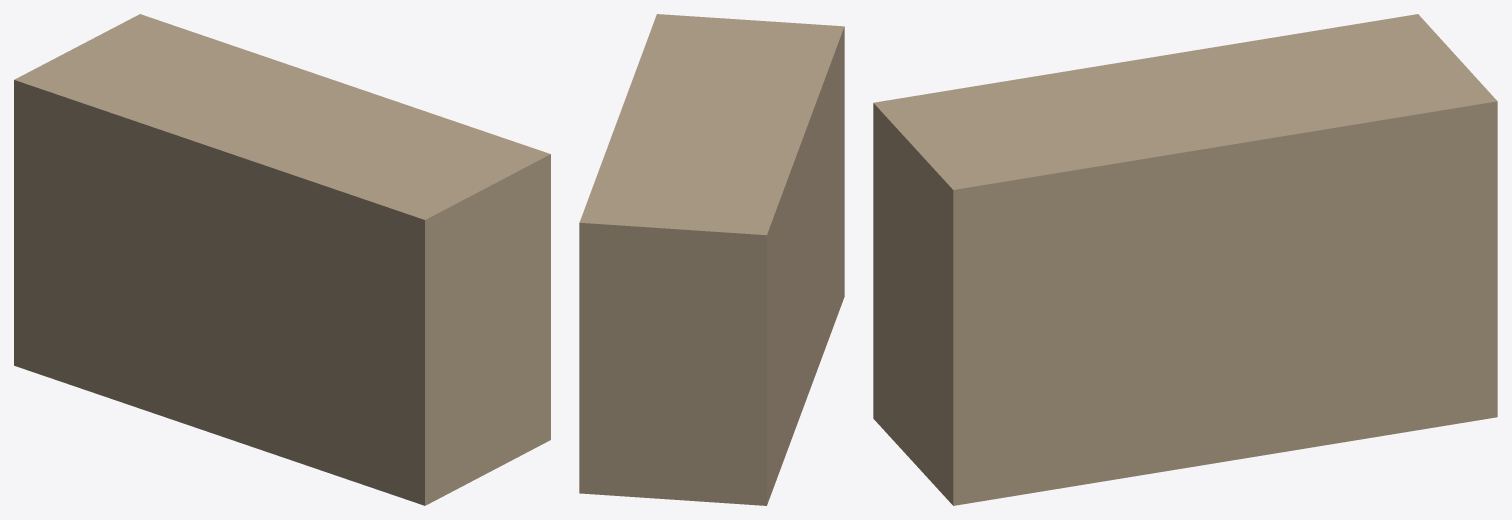
Rendered from bld_106415375.dae.
3 views of the same model, side by side, from view 1: azimuth 30°, elevation 25°; view 2: azimuth 150°, elevation 25°; view 3: azimuth 270°, elevation 25° (orthographic). The views are drawn at different scales.
Visible parts, largest first — view 1: bld_106415375; view 2: bld_106415375; view 3: bld_106415375.
Boxes of the visible parts, x1,y1,x2,y2 form: bld_106415375: (14, 14, 550, 505); bld_106415375: (579, 14, 844, 505); bld_106415375: (873, 14, 1497, 505).
Size of the model in its own units: 9.56 by 14.33 by 8.
